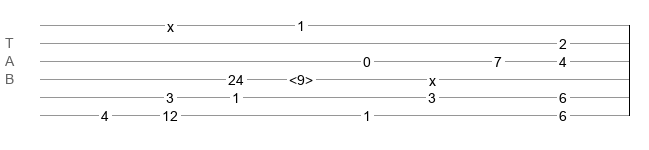0: (363, 54, 371, 64)
1: (232, 90, 240, 100), (297, 18, 305, 28), (363, 108, 371, 118)
12: (162, 108, 178, 118)
2: (559, 36, 567, 46)
24: (228, 72, 244, 82)
3: (166, 90, 174, 100), (428, 90, 436, 100)
4: (101, 108, 109, 118), (559, 54, 567, 64)
6: (559, 108, 567, 118), (559, 90, 567, 100)
7: (494, 54, 502, 64)
harmonic: (289, 72, 313, 82)
x: (167, 19, 174, 27), (429, 73, 436, 81)
